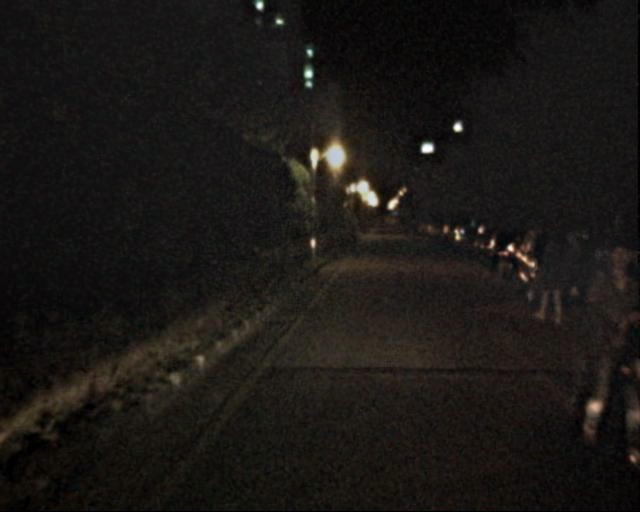person: (557, 241, 640, 466), (553, 230, 589, 317), (533, 240, 568, 326)
